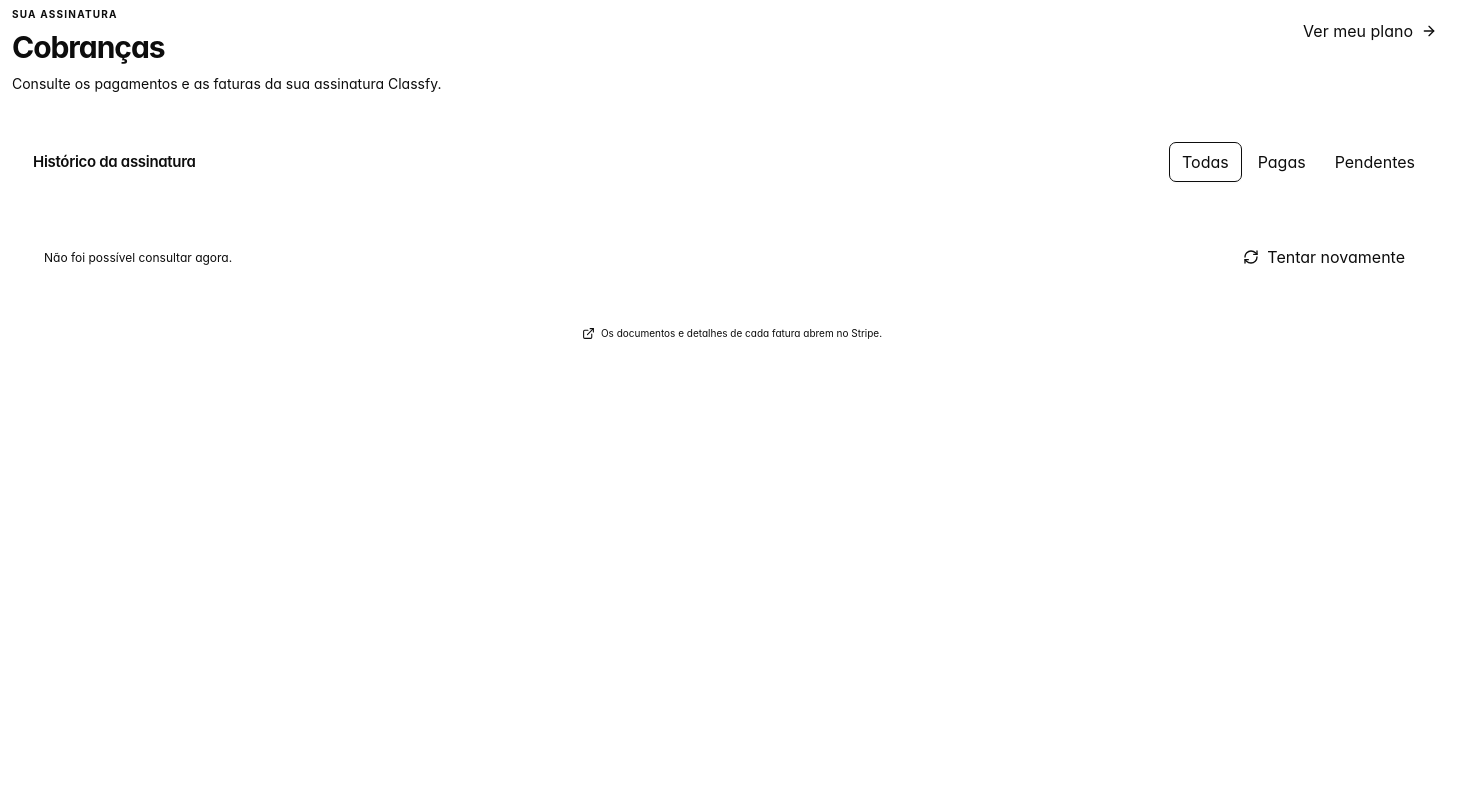
Scenario: Cobranças history and owner isolation › shows a helpful failure with retry, then an honest Free empty state without manufactured payment or records
Check: the message "Não foi possível consultar agora. Tentar novamente" is shown, box [28,221,1436,293]
Click the button "Tentar novamente": (1324, 257) [1228,235,1420,279]
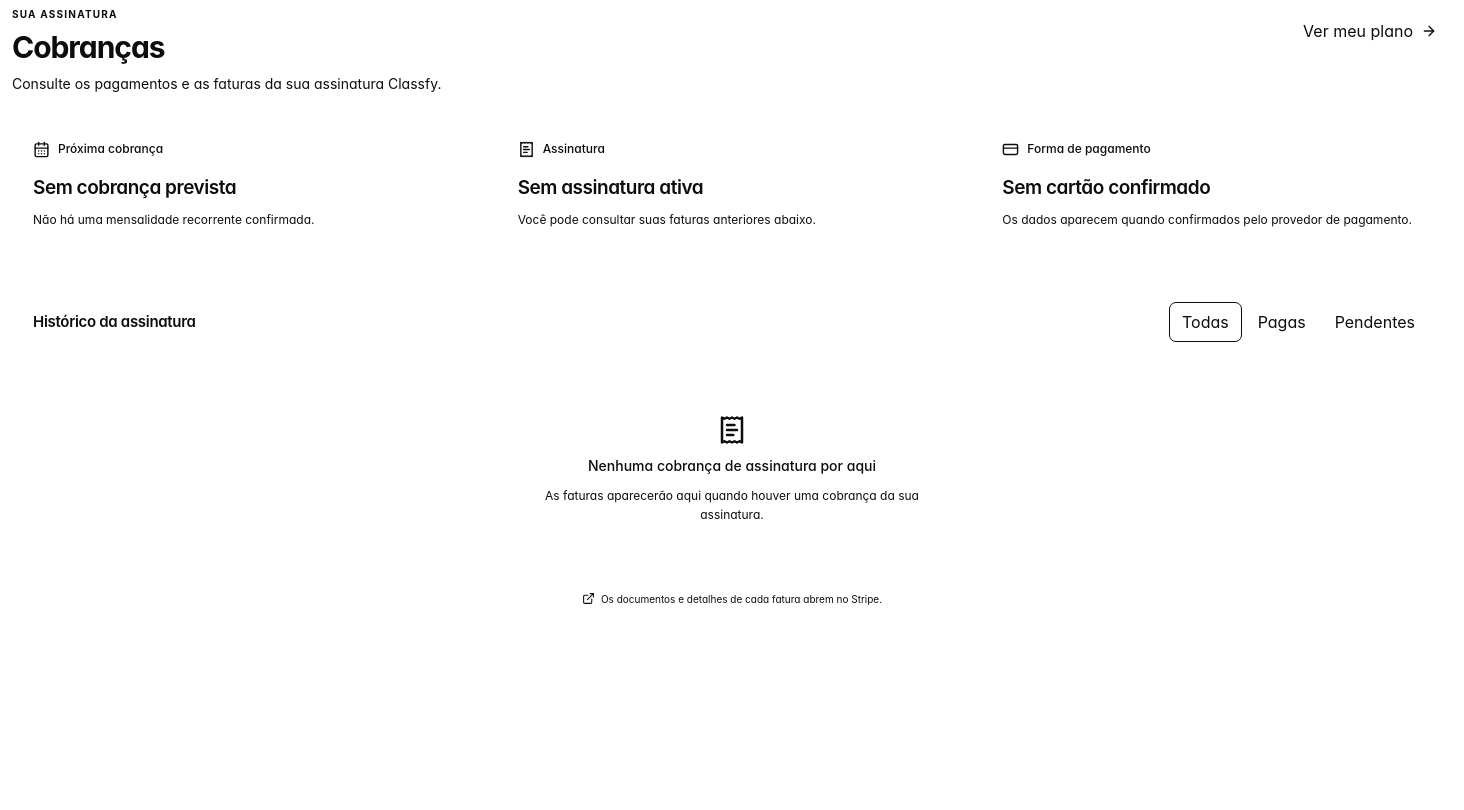
Check: the text "Não há uma mensalidade recorrente confirmada" is shown, box [33,212,314,227]
Check: the text "Nenhuma cobrança de assinatura" is shown, box [588,457,876,474]
